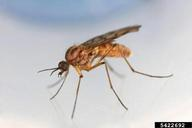Fruit fly: (32, 24, 150, 114)
